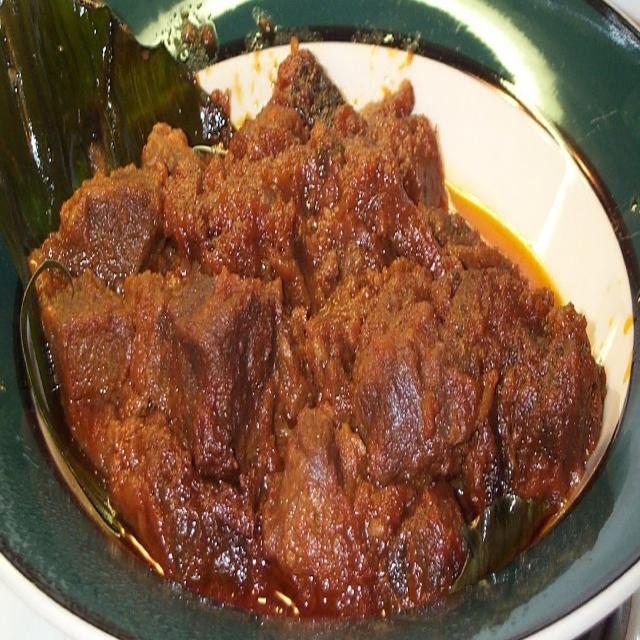Wet Waste: (26, 43, 606, 628)
